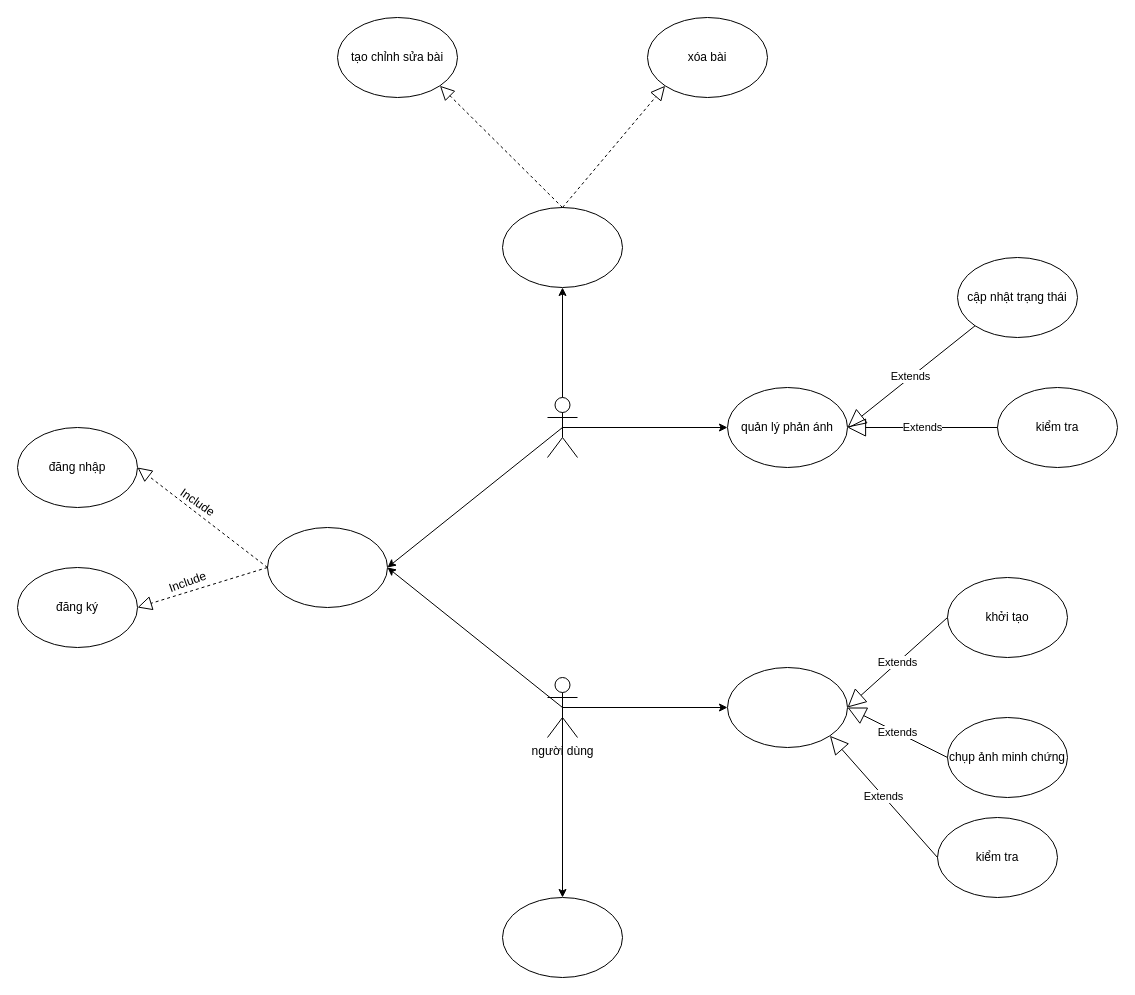
The diagram is 1135 pixels wide and 995 high, and some of its shapes have lost their labels. Each missing label, with the box of its shape:
phản ánh: (726, 666, 848, 748)
quản lý tin tức: (502, 206, 622, 288)
Quản lý tài khoản: (266, 526, 388, 608)
quản trị viên: (546, 396, 578, 458)
xem tin tức: (502, 896, 622, 978)
